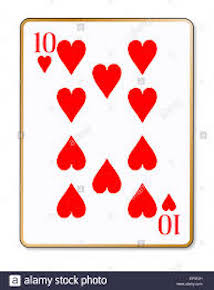TenOfHearts: (15, 14, 196, 250)
